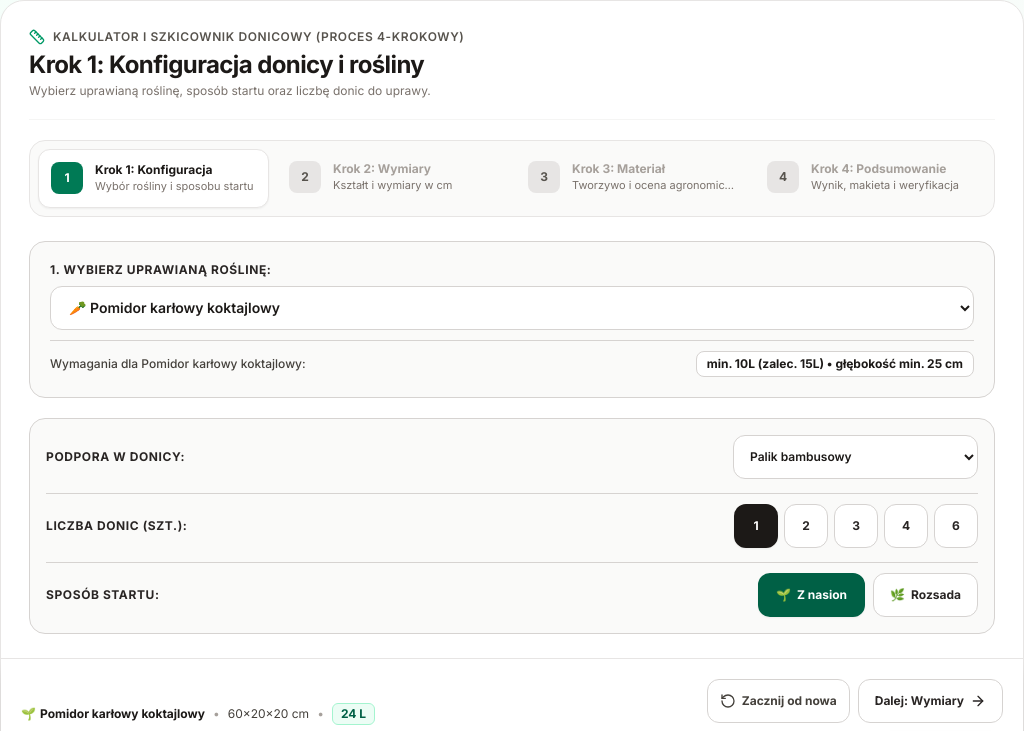
Test: PotCalculator - 4 Clear Steps, Accessible Accordions & Sticky Footer › shows only material controls on step 3, hiding dimension sliders and plant selection
// Navigate to Step 3 directly via step indicator
What coordinates should you click on to do the following:
click the text "Krok 3: Materiał"
I would click on:
 (618, 168)
Its box is [572,161,665,176].
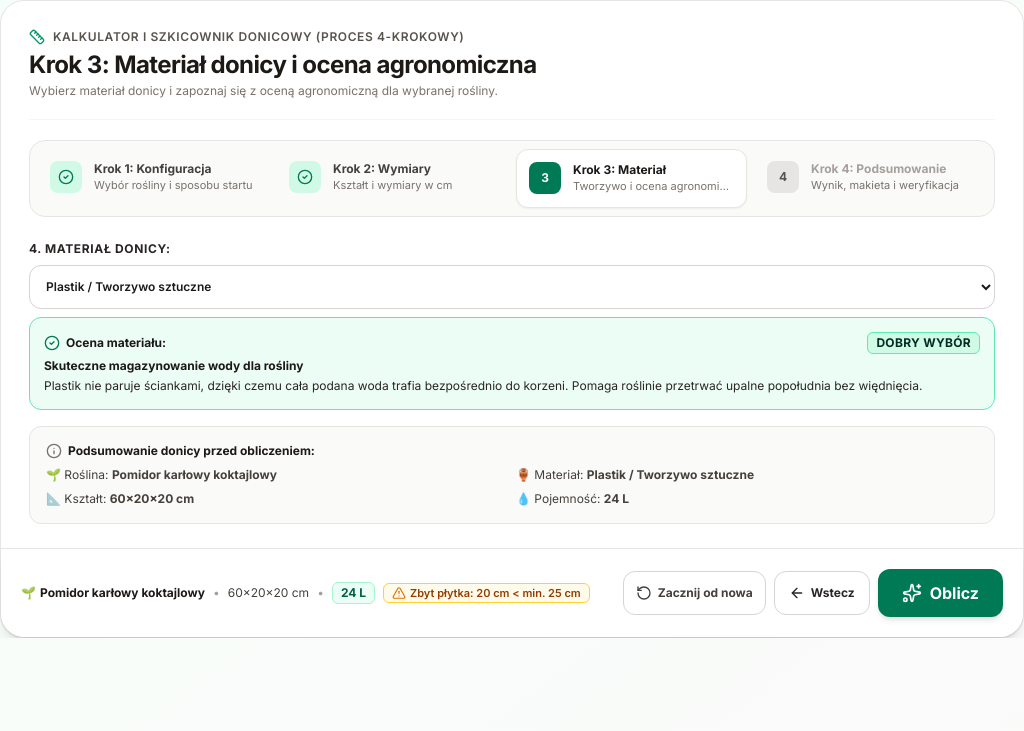
Now the heading "Krok 3: Materiał donicy i ocena agronomiczna" is shown, box [29,49,536,81]
Now the dropdown with test id "pot-calc-material-select" is shown, box [29,264,995,308]
Now the text "Ocena materiału:" is shown, box [66,334,166,350]
